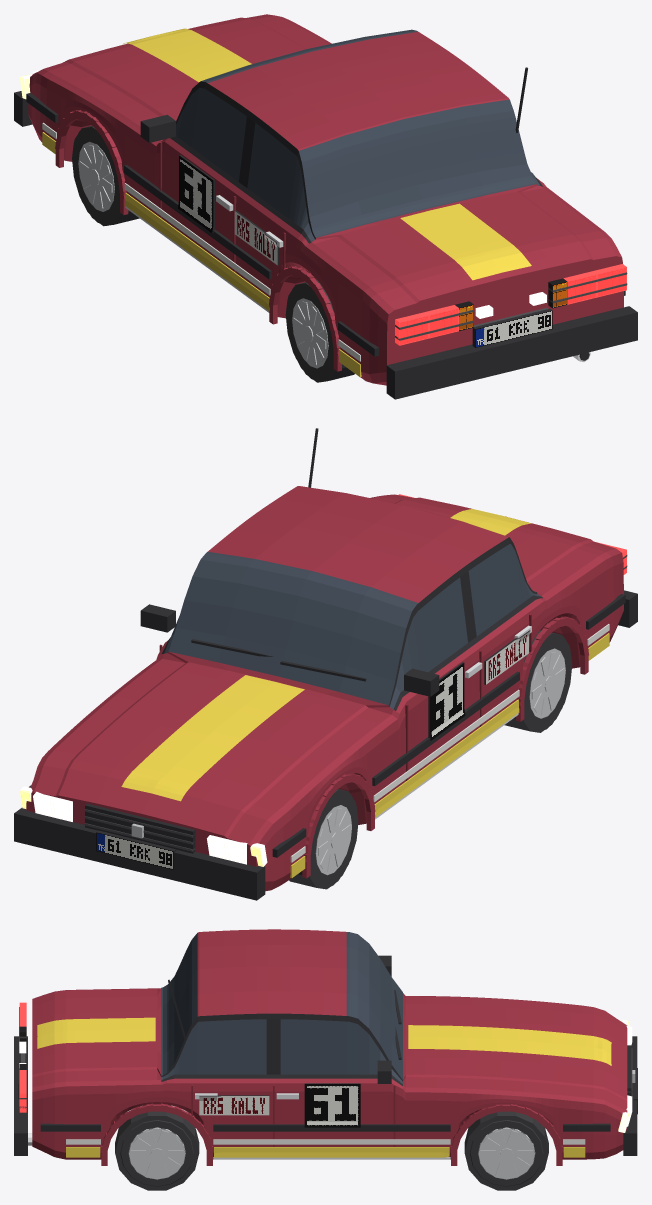
Rendered from kerkenez.glb.
3 renders of one model, top to bottom at view 1: azimuth 30°, elevation 25°; view 2: azimuth 150°, elevation 25°; view 3: azimuth 270°, elevation 25°, orthographic. The views are drawn at different scales.
Parts seen in each view (by area): view 1: body.012, livery.012, wheel_RL.012, wheel_FL.012; view 2: body.012, livery.012, wheel_RL.012, wheel_FL.012; view 3: body.012, livery.012, wheel_FR.012, wheel_RR.012.
Part boxes in pixels (x1,y1,x2,y2): body.012: (14,14,637,399); livery.012: (42,28,531,376); wheel_RL.012: (285,279,354,382); wheel_FL.012: (72,125,139,226); body.012: (14,428,637,900); livery.012: (121,509,609,877); wheel_RL.012: (504,629,572,732); wheel_FL.012: (289,789,358,889); body.012: (14,929,637,1165); livery.012: (37,1017,611,1157); wheel_FR.012: (464,1111,548,1190); wheel_RR.012: (115,1111,199,1190).
Size of the model in its own units: 1.95 by 1.62 by 4.44.
Materials: 19 (7 with a texture image).
